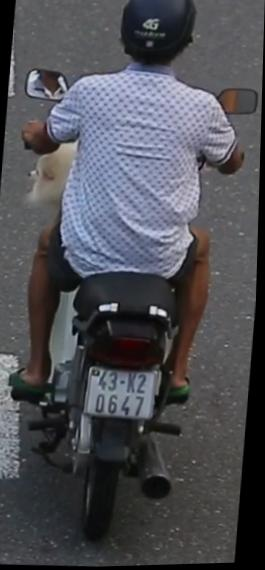LP: (83, 358, 166, 427)
helmet: (102, 0, 211, 94)
